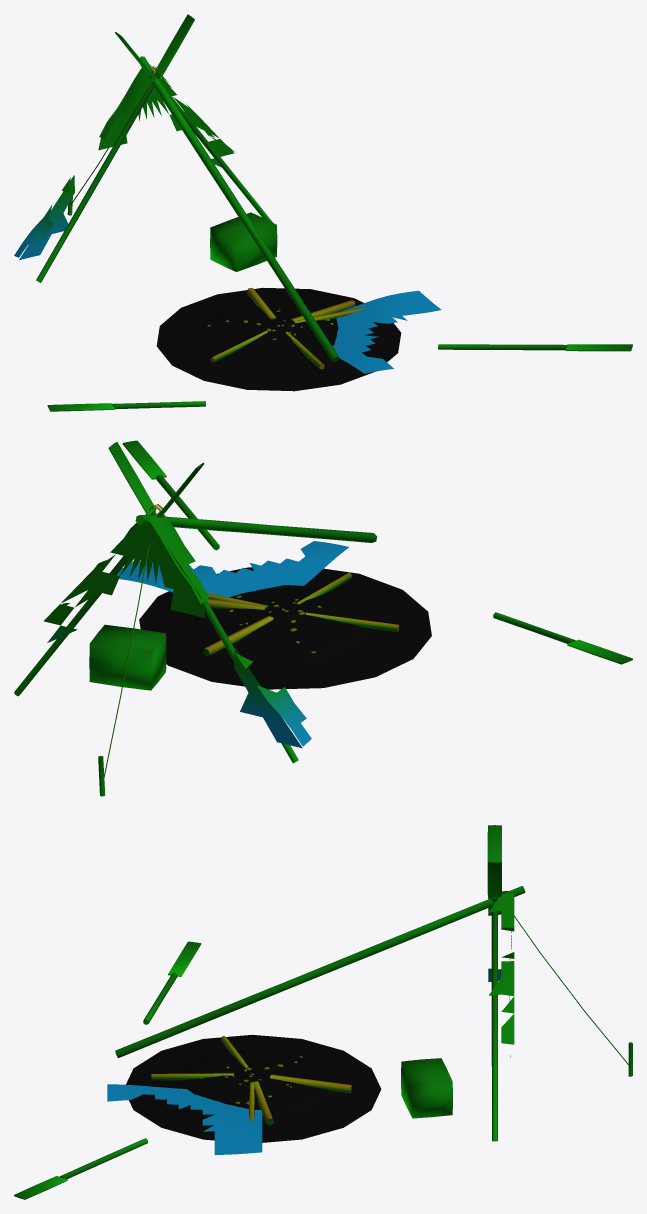
Rendered from camp_tent_burned.glb.
3 views of the same model, one above another, from view 1: azimuth 30°, elevation 25°; view 2: azimuth 150°, elevation 25°; view 3: azimuth 270°, elevation 25° (orthographic). The views are drawn at different scales.
Parts seen in each view (by area): view 1: camp_tent_burned; view 2: camp_tent_burned; view 3: camp_tent_burned.
Boxes of the visible parts, x1,y1,x2,y2 form: camp_tent_burned: [14, 14, 632, 411]; camp_tent_burned: [14, 440, 632, 796]; camp_tent_burned: [14, 825, 632, 1199].
Size of what is drawn, in the model's own units: 6.28 by 2.76 by 6.39.
